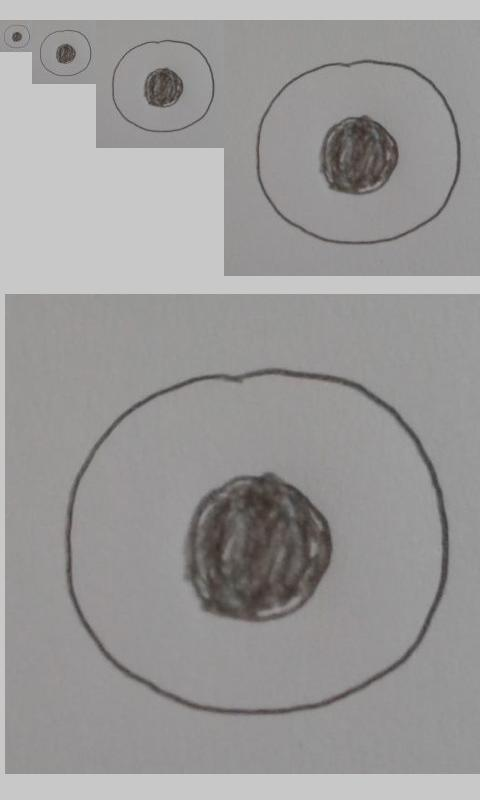radio_button: (63, 367, 451, 719), (254, 57, 464, 247), (110, 38, 216, 133), (38, 28, 92, 77), (3, 24, 31, 49)
